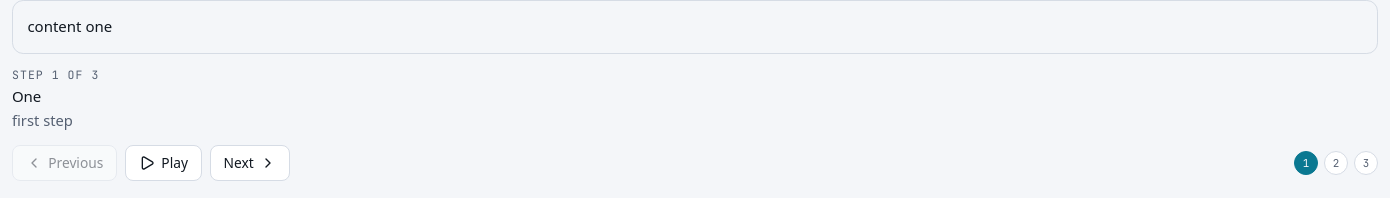
Stepper › pauses on request and when the visitor steps by hand
Step 1. Click the button "Play" → (163, 163), box [125,145,202,181]
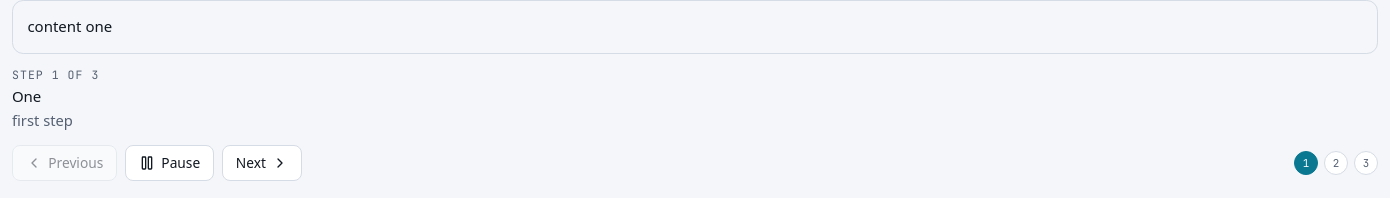
Step 2. Click the button "Pause" → (170, 163), box [125,145,214,181]
Wait 3000 ms
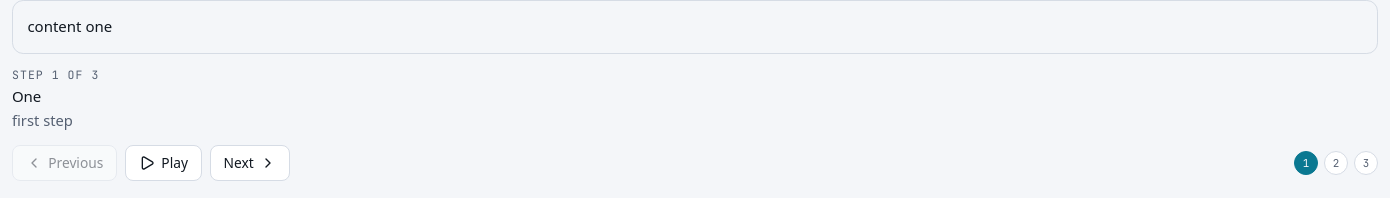
Expected: the text "Step 1 of 3" is shown, [12,67,99,82]
Step 3. Click the button "Play" → (163, 163), box [125,145,202,181]
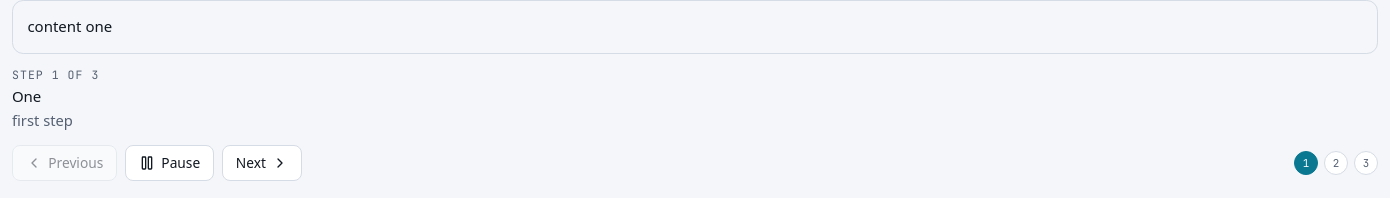
Step 4. Click the button with aria-label "Next step" → (262, 163), box [222,145,302,181]
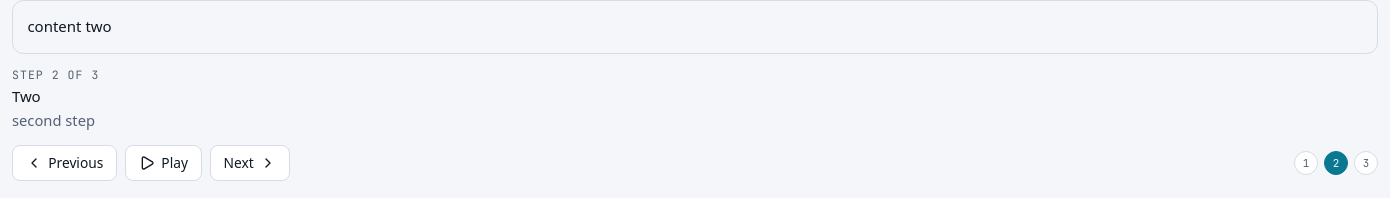
Result: the button "Play" is shown at [125,145,202,181]
